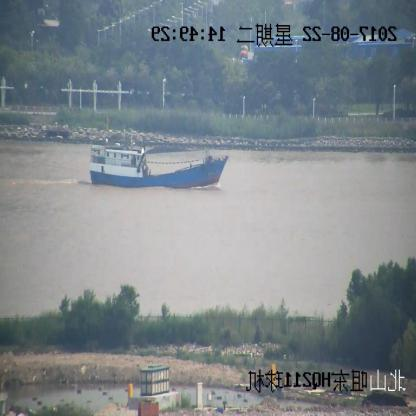Fishing Boat: (88, 130, 227, 188)
